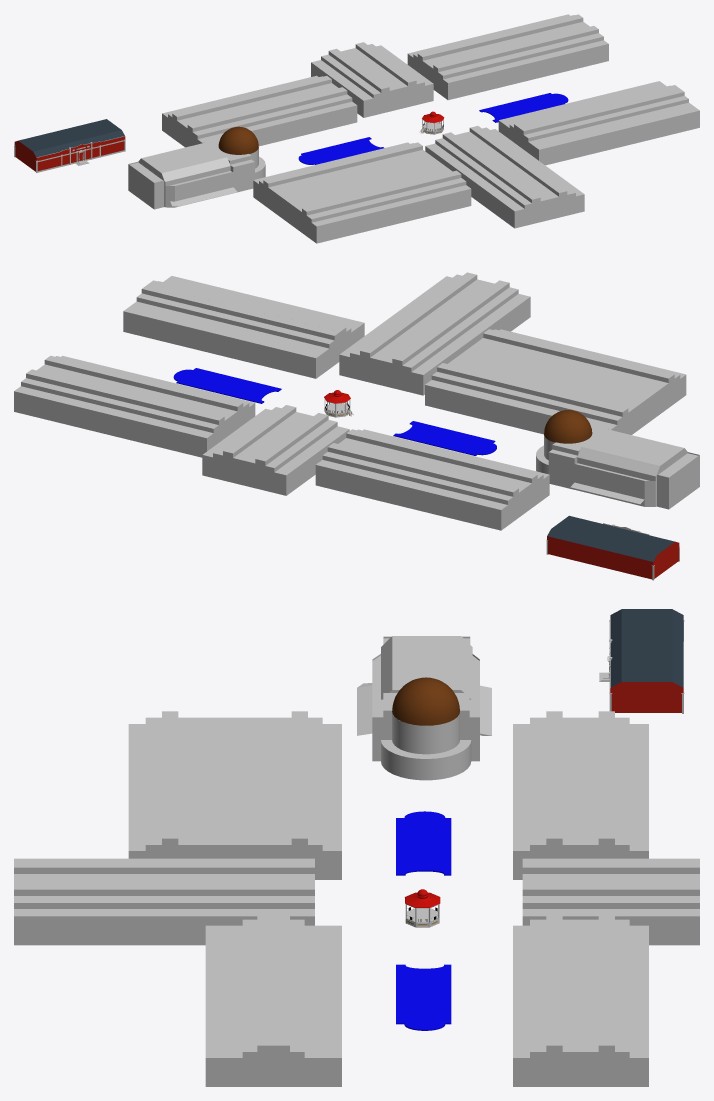
File: Bandstand_Connected.obj
3 views of the same model, one above another, from view 1: azimuth 30°, elevation 25°; view 2: azimuth 150°, elevation 25°; view 3: azimuth 270°, elevation 25° (orthographic). The views are drawn at different scales.
Parts seen in each view (by area): view 1: Rotunda; view 2: Rotunda; view 3: Rotunda.
Part boxes in pixels (box(x1,y1,x2,y2)): Rotunda: box(14, 14, 699, 243); Rotunda: box(14, 272, 699, 580); Rotunda: box(14, 609, 699, 1086).
Size of the model in its own units: 410 by 34.87 by 266.
